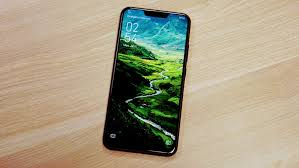asus: (100, 7, 193, 157)
